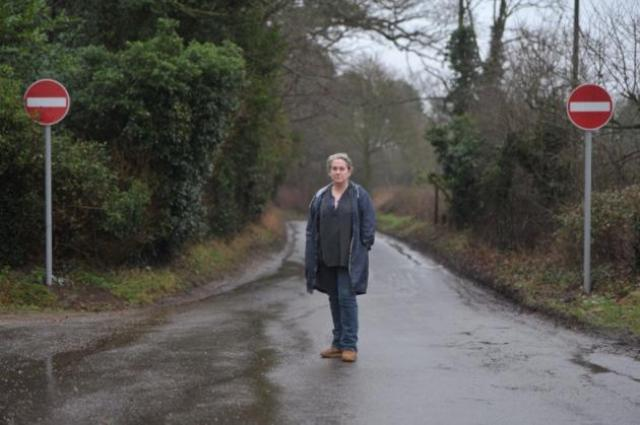B2: (566, 82, 614, 130), (23, 80, 68, 126)
